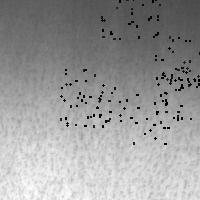pitted_surface: (1, 57, 200, 200), (60, 69, 119, 125), (119, 92, 177, 143), (153, 67, 200, 127), (155, 34, 200, 89), (101, 0, 159, 38)
